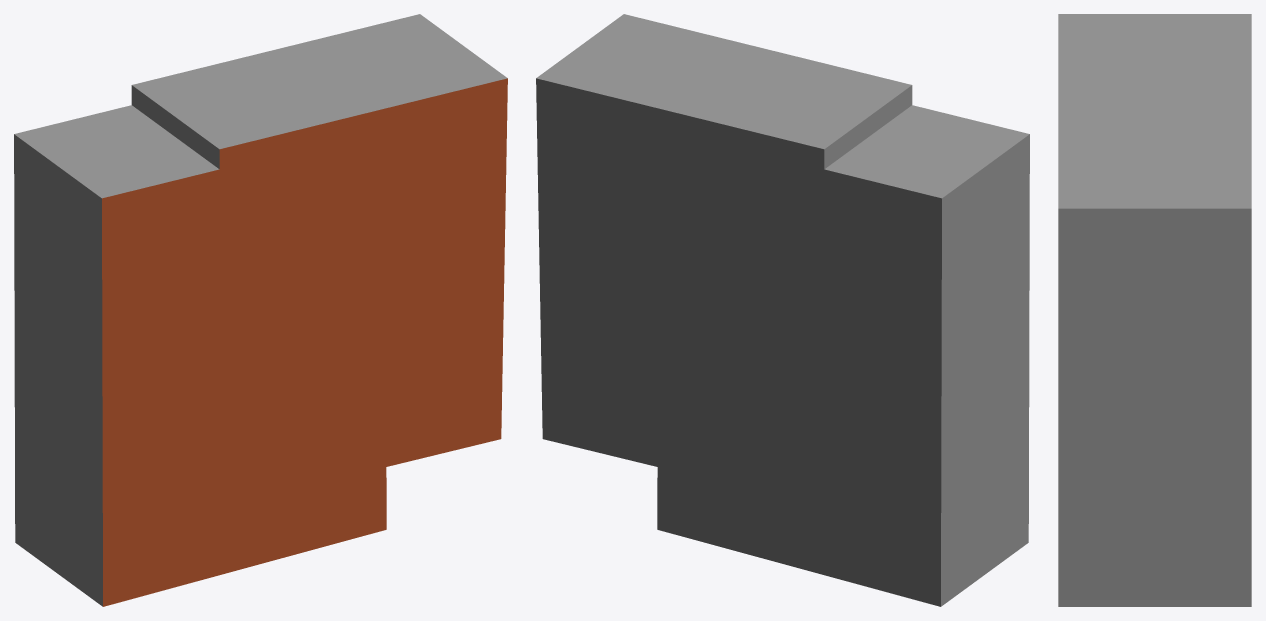
File: construction_1896_assumed_A_Casa_h6m.obj
The picture shows the model from 3 angles, left to right: view 1: azimuth 30°, elevation 25°; view 2: azimuth 150°, elevation 25°; view 3: azimuth 270°, elevation 25°; orthographic projection. The views are drawn at different scales.
Visible parts, largest first — view 1: construction_1896_assumed_A_Casa; view 2: construction_1896_assumed_A_Casa; view 3: construction_1896_assumed_A_Casa.
Boxes of the visible parts, <box> form: construction_1896_assumed_A_Casa: <box>14,14,507,606</box>; construction_1896_assumed_A_Casa: <box>536,14,1029,606</box>; construction_1896_assumed_A_Casa: <box>1058,14,1251,606</box>.
Bounding box in the file's own units: 16 × 16.19 × 6.
